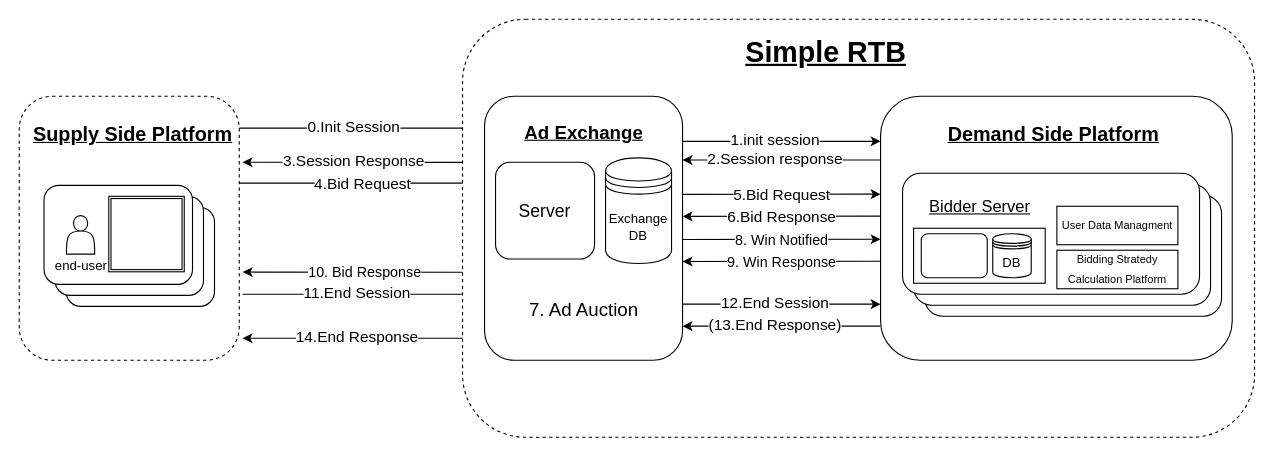
The diagram is 1274 pixels wide and 457 high, and some of its shapes have lost their labels. The shapes that lost their labels are listed below. From the top down, each one's box as (x1, y1, x2, y2) in pixels, then its label:
(108, 195, 184, 272): WebPage
(920, 233, 987, 278): API Server
